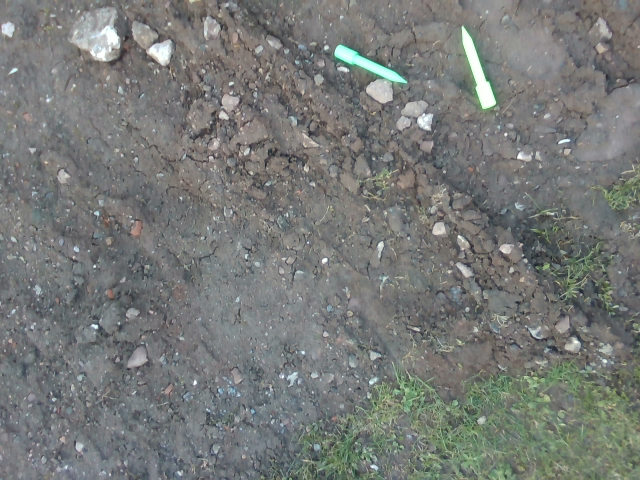Probe: (332, 40, 411, 89), (458, 21, 500, 113)
